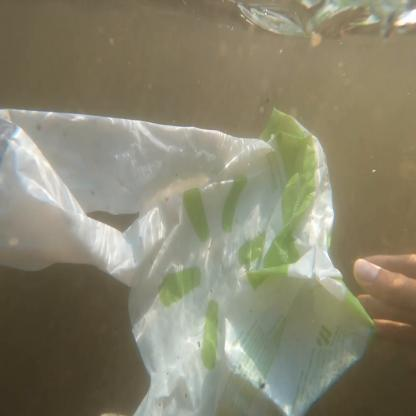Rác: (4, 100, 356, 402)
